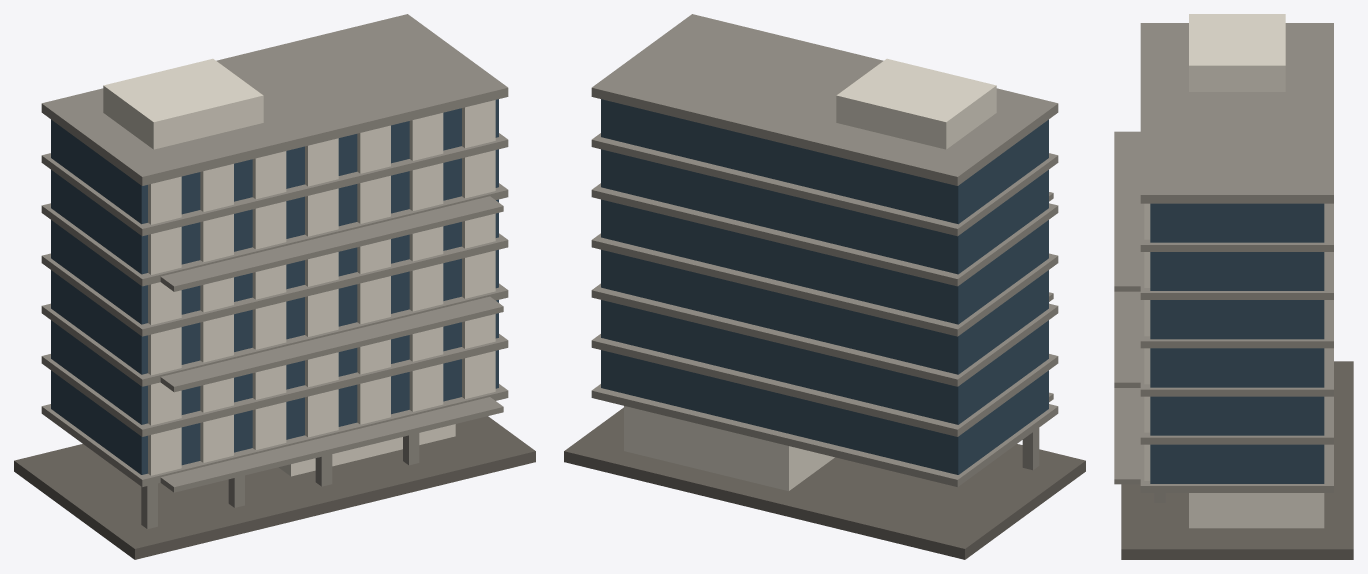
Rendered from casa.glb.
3 views of the same model, side by side, from view 1: azimuth 30°, elevation 25°; view 2: azimuth 150°, elevation 25°; view 3: azimuth 270°, elevation 25° (orthographic). The views are drawn at different scales.
Parts seen in each view (by area): view 1: segnaposto; view 2: segnaposto; view 3: segnaposto.
Part boxes in pixels (x1=…): segnaposto: x1=14, y1=14, x2=535, y2=559; segnaposto: x1=564, y1=14, x2=1085, y2=559; segnaposto: x1=1114, y1=14, x2=1353, y2=559.
Bounding box in the file's own units: 0.46 × 0.437 × 0.247.
